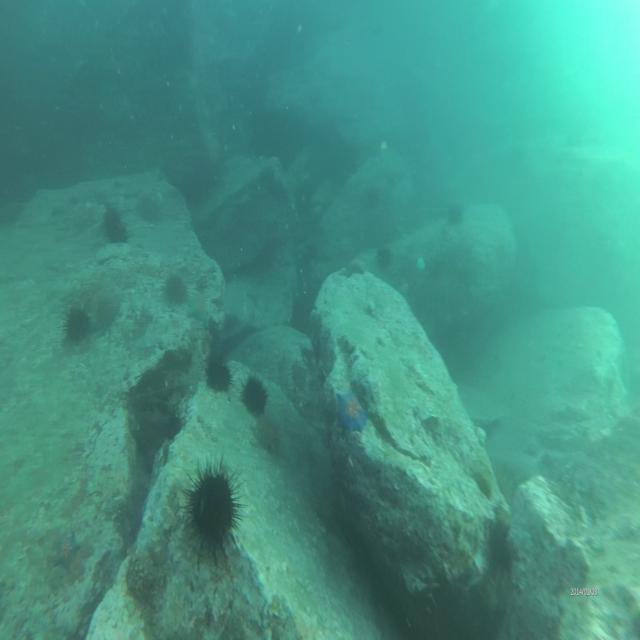echinus: (175, 448, 246, 564), (236, 364, 267, 421), (59, 302, 91, 346), (205, 353, 235, 397), (100, 208, 132, 247), (162, 267, 188, 310)
starfish: (335, 386, 368, 434)
